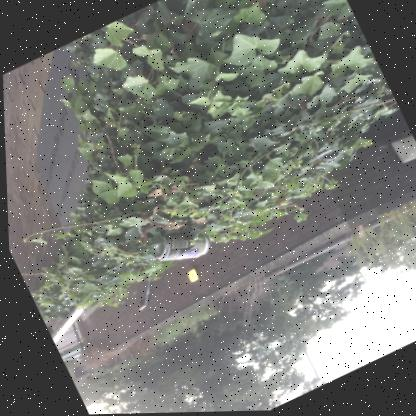Metal: (151, 232, 207, 260)
